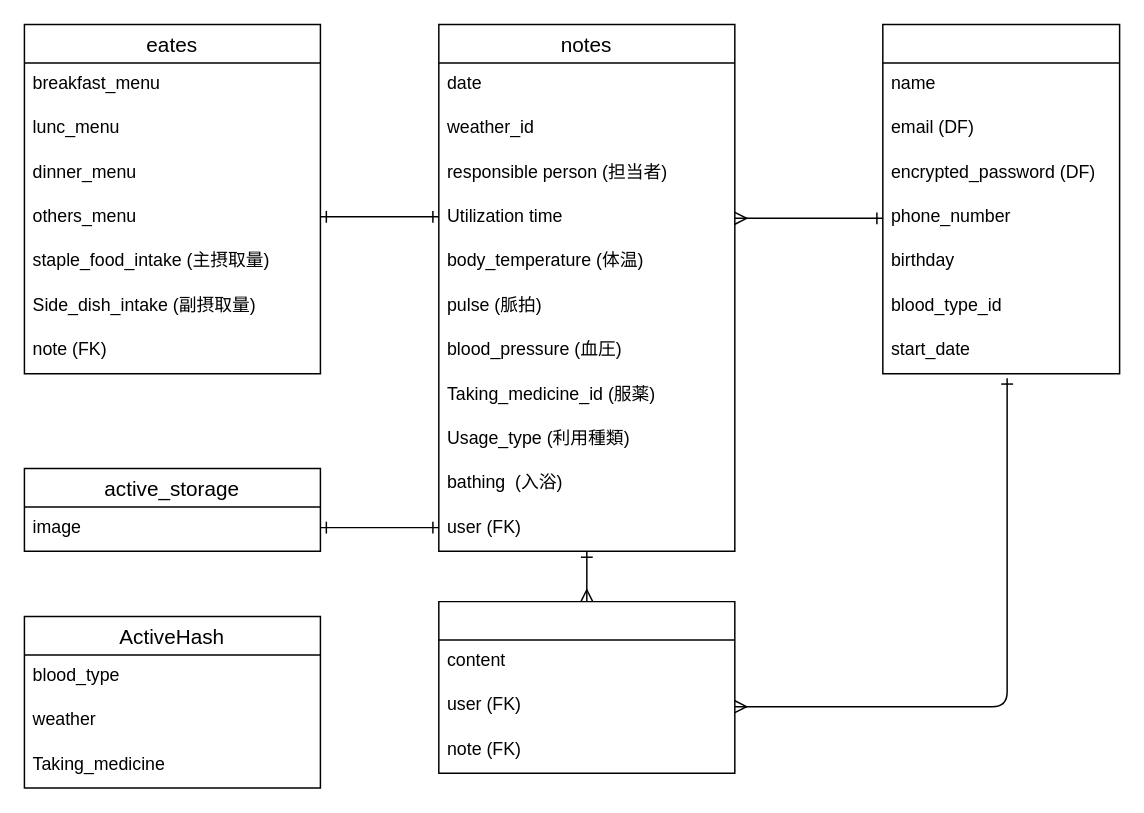
Some shapes in this 1144 by 813 pixel diagram are drawn without their labels. The box of each missing label's shape, as (x1, y1, x2, y2) in pixels:
comments: (437, 600, 735, 773)
users: (881, 23, 1120, 374)
